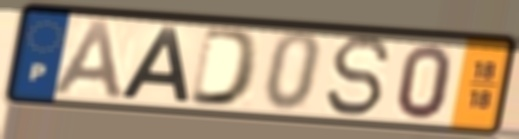0: (257, 28, 328, 115), (391, 40, 455, 122)
A: (48, 17, 128, 103), (116, 23, 192, 103)
D: (185, 24, 263, 109)
S: (323, 33, 394, 120)
